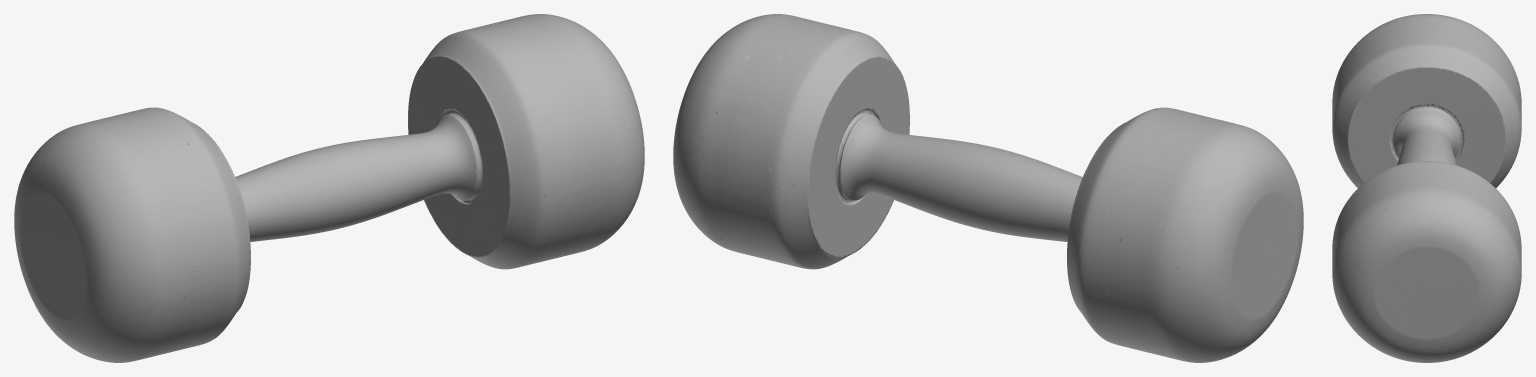
3 views of the same model, side by side, from view 1: azimuth 30°, elevation 25°; view 2: azimuth 150°, elevation 25°; view 3: azimuth 270°, elevation 25° (orthographic). The views are drawn at different scales.
Bounding box in the file's own units: 1.95 × 0.7443 × 0.7465.
1 material, 1 textured.
